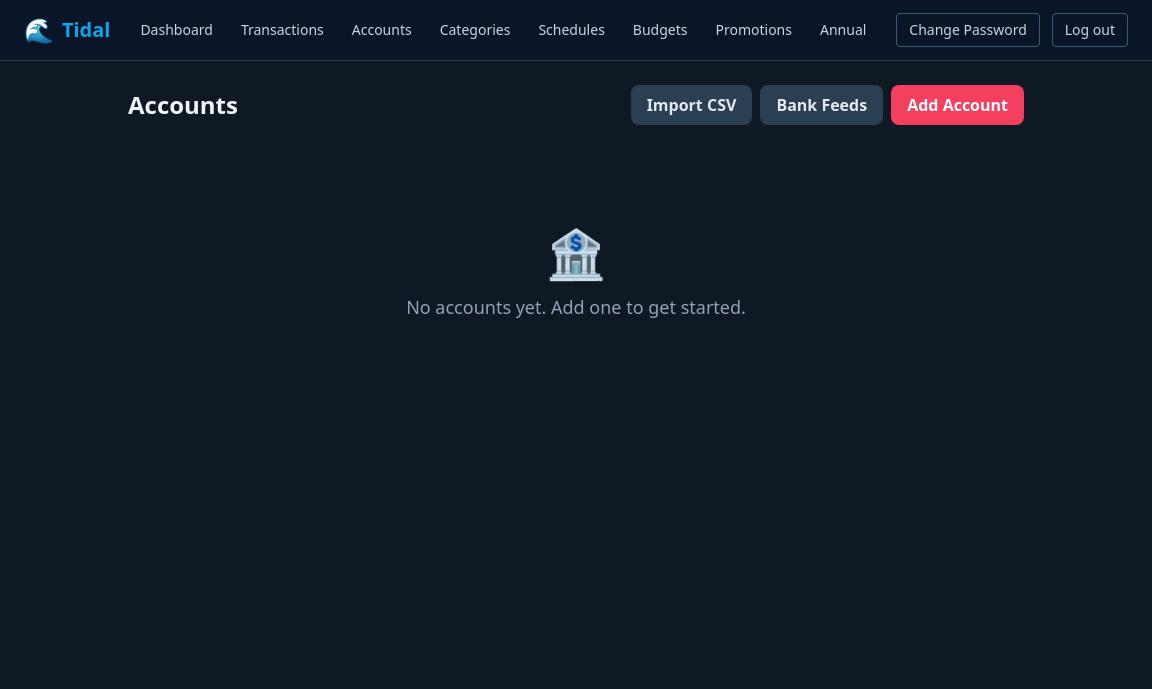
Test case: AccountsPage › hides the AddAccountForm when Add Account is clicked a second time
Click the button "Add Account": (958, 105) [891,85,1024,125]
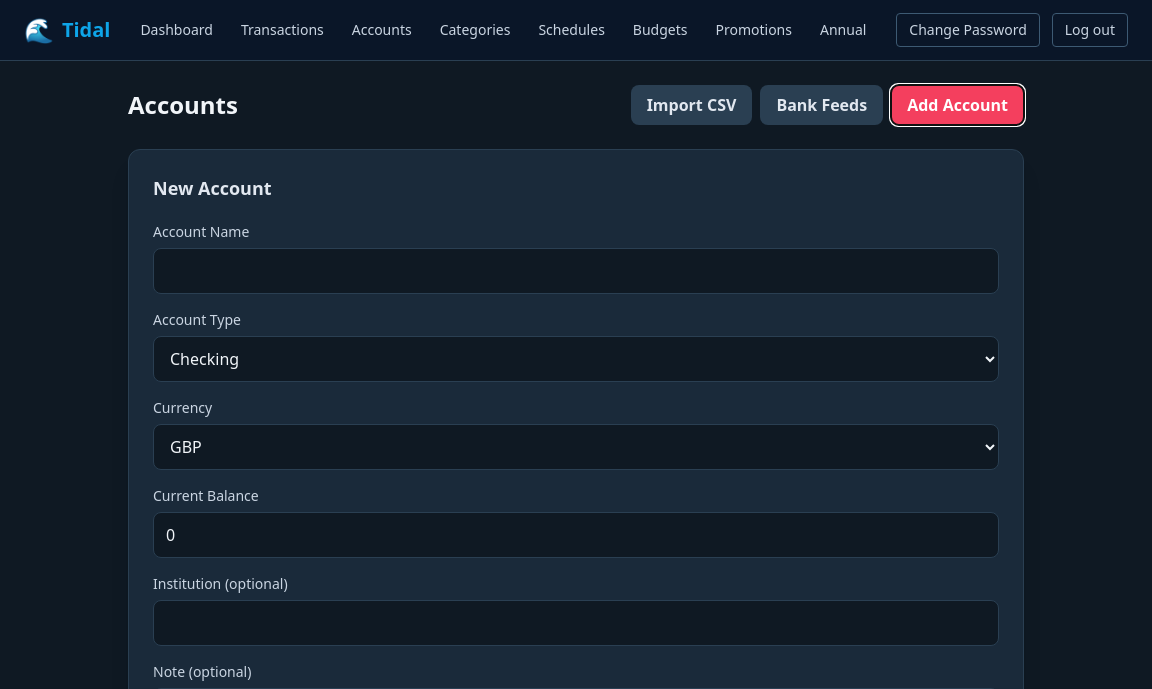
Click the button "Add Account": (958, 105) [891,85,1024,125]
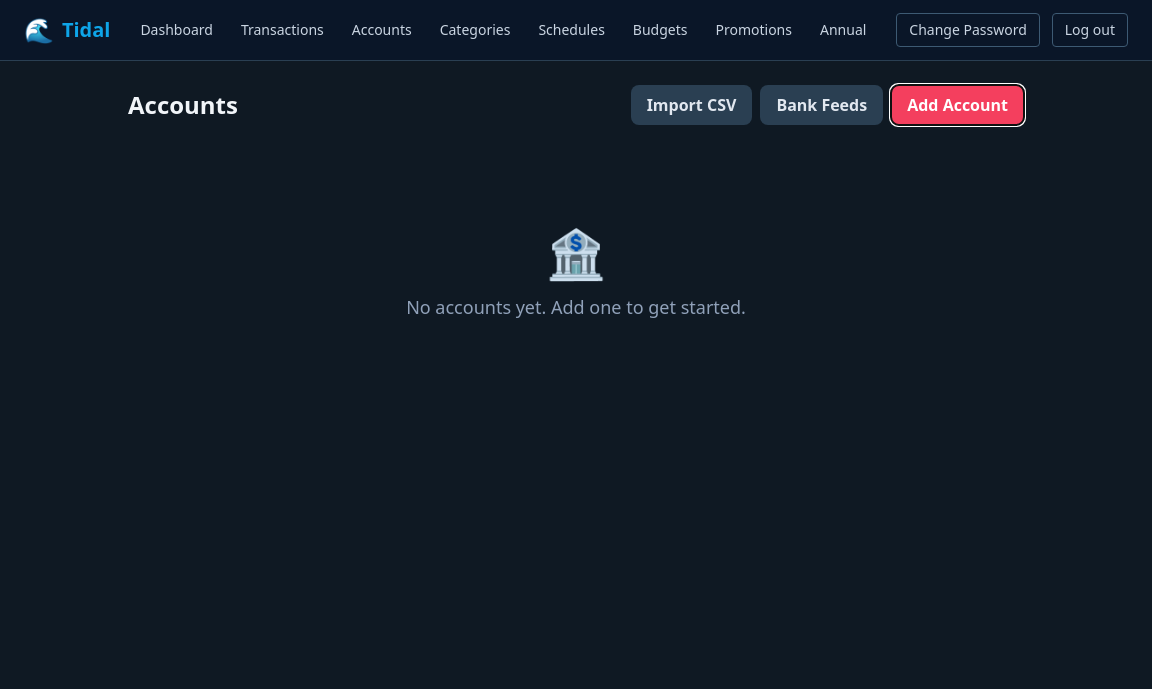
Result: the label labelled "Account Name" is gone
